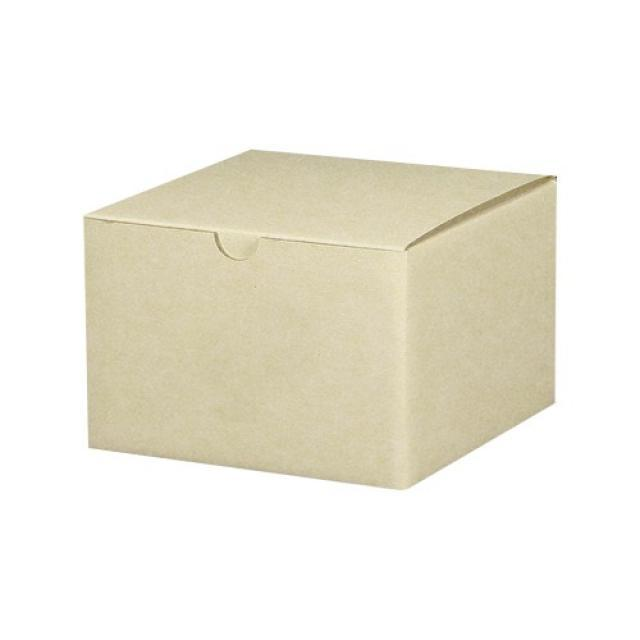box: (84, 148, 556, 493)
